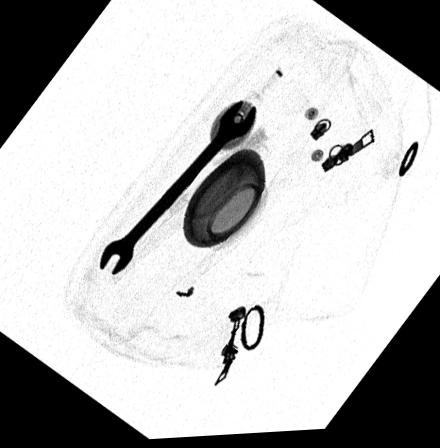Wrench: (98, 103, 258, 276)
